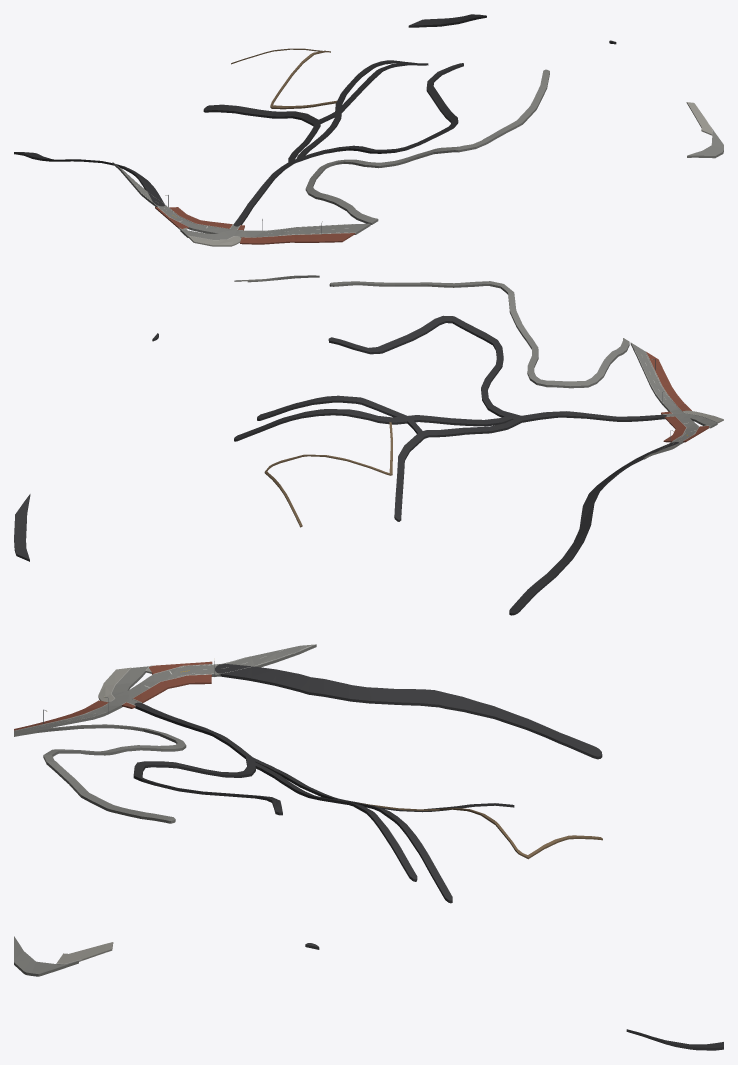
Rendered from 17-109435-59458.93eaa228.glb.
The picture shows the model from 3 angles, top to bottom: view 1: azimuth 30°, elevation 25°; view 2: azimuth 150°, elevation 25°; view 3: azimuth 270°, elevation 25°; orthographic projection. The views are drawn at different scales.
Size of the model in its own units: 294 by 78.99 by 291.
